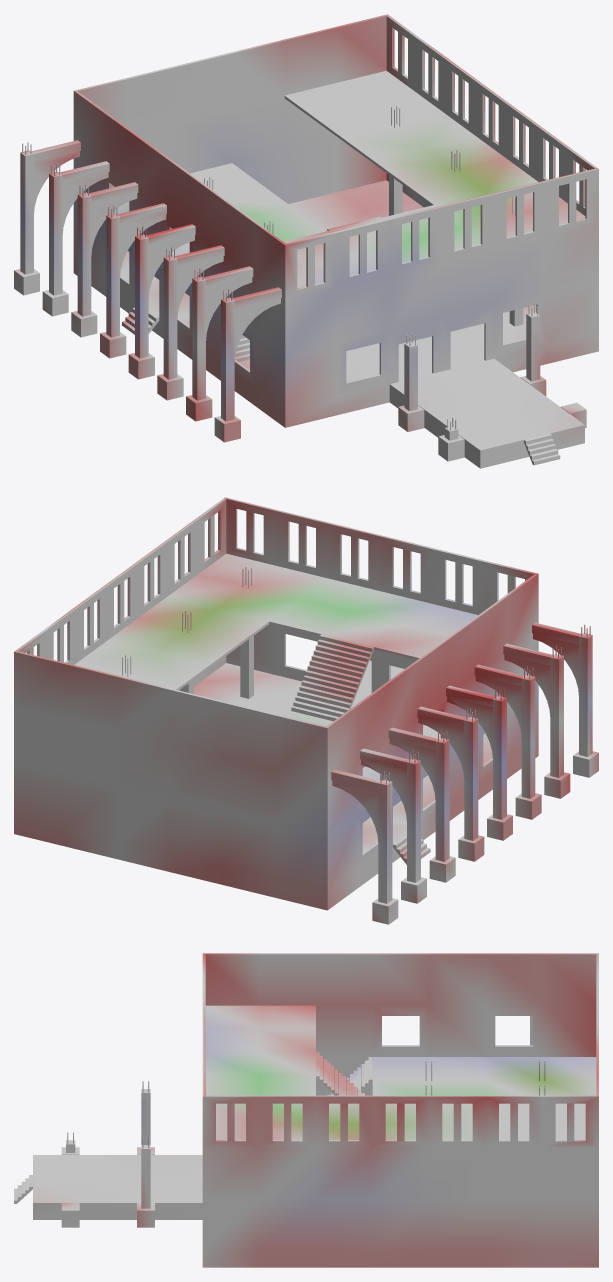
The model's file is Structures_2.fbx.
3 views of the same model, one above another, from view 1: azimuth 30°, elevation 25°; view 2: azimuth 150°, elevation 25°; view 3: azimuth 270°, elevation 25° (orthographic). The views are drawn at different scales.
Parts seen in each view (by area): view 1: Structures_2; view 2: Structures_2; view 3: Structures_2.
Boxes of the visible parts, x1=… form: Structures_2: x1=14, y1=14, x2=598, y2=468; Structures_2: x1=14, y1=497, x2=598, y2=924; Structures_2: x1=14, y1=953, x2=598, y2=1267.
Size of what is drawn, in the model's own units: 2147 by 1000 by 3100.
